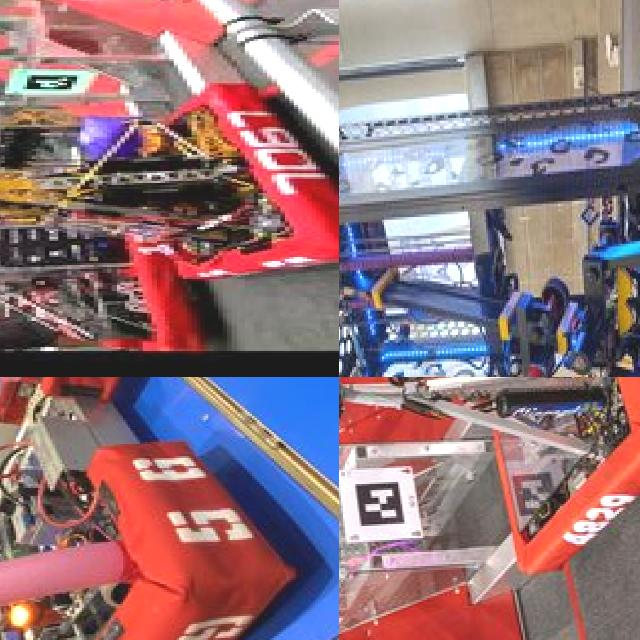FRC-Robots: (339, 0, 640, 377), (0, 377, 339, 640), (339, 377, 640, 624), (0, 76, 339, 285), (0, 209, 213, 358)
